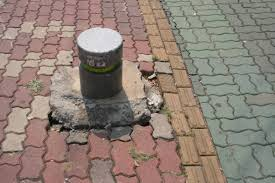guide_blocks: (161, 67, 226, 183), (140, 1, 180, 59)
